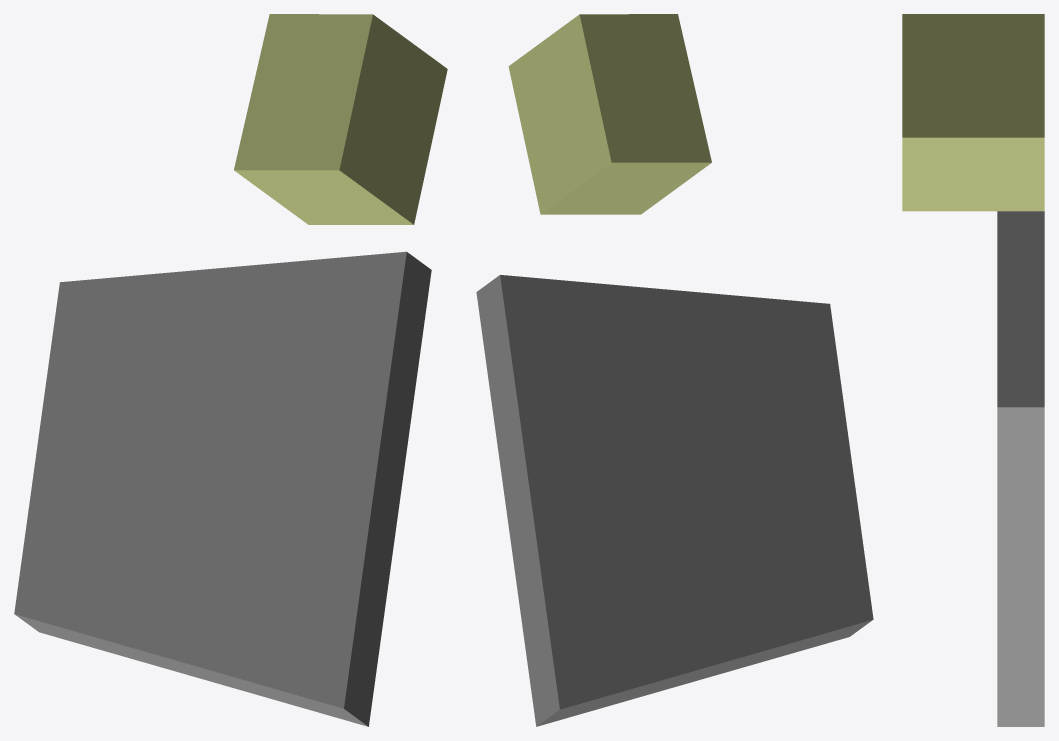
3 renders of one model, left to right at view 1: azimuth 30°, elevation 25°; view 2: azimuth 150°, elevation 25°; view 3: azimuth 270°, elevation 25°, orthographic. The views are drawn at different scales.
Parts seen in each view (by area): view 1: 0_1_0_0_1_3_1_1_1; view 2: 0_1_0_0_1_3_1_1_1; view 3: 0_1_0_0_1_3_1_1_1.
Part boxes in pixels (x1,y1,x2,y2): 0_1_0_0_1_3_1_1_1: (14, 14, 447, 726); 0_1_0_0_1_3_1_1_1: (476, 14, 873, 726); 0_1_0_0_1_3_1_1_1: (902, 14, 1044, 726).
Size of the model in its own units: 27.31 by 47.39 by 9.
